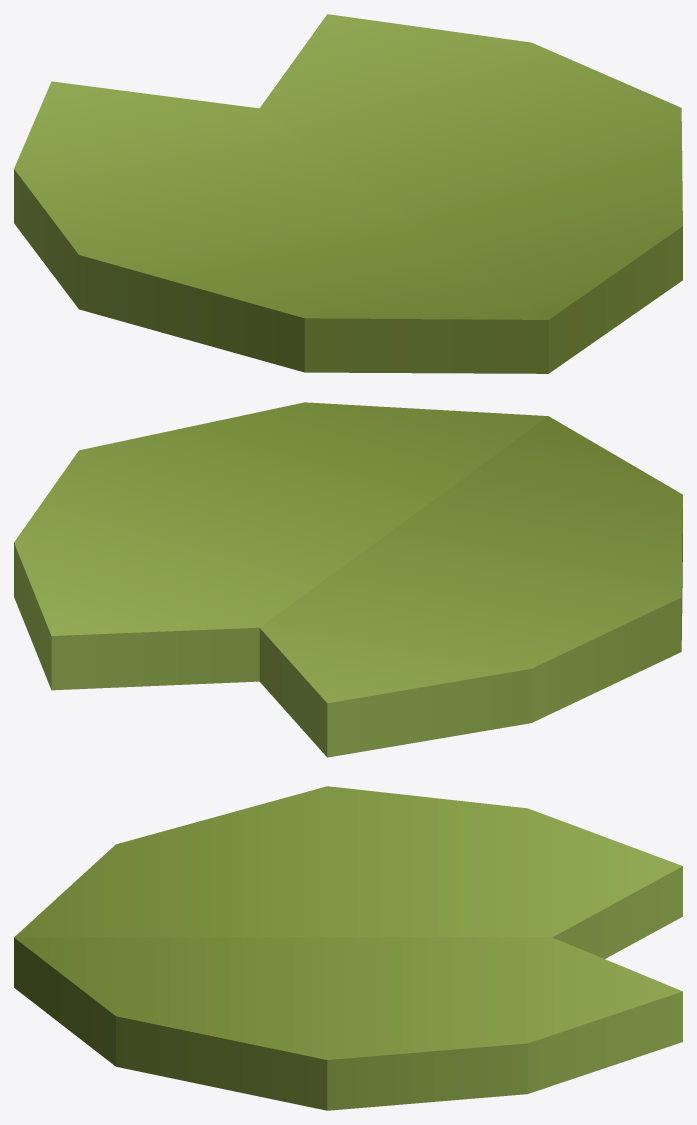
File: Water_lily_02.fbx
The picture shows the model from 3 angles, top to bottom: view 1: azimuth 30°, elevation 25°; view 2: azimuth 150°, elevation 25°; view 3: azimuth 270°, elevation 25°; orthographic projection. The views are drawn at different scales.
Visible parts, largest first — view 1: Water_lily_02; view 2: Water_lily_02; view 3: Water_lily_02.
Boxes of the visible parts, <box> form: Water_lily_02: <box>14,14,682,373</box>; Water_lily_02: <box>14,402,682,757</box>; Water_lily_02: <box>14,786,682,1110</box>.
Bounding box in the file's own units: 0.5523 × 0.0607 × 0.5702.
